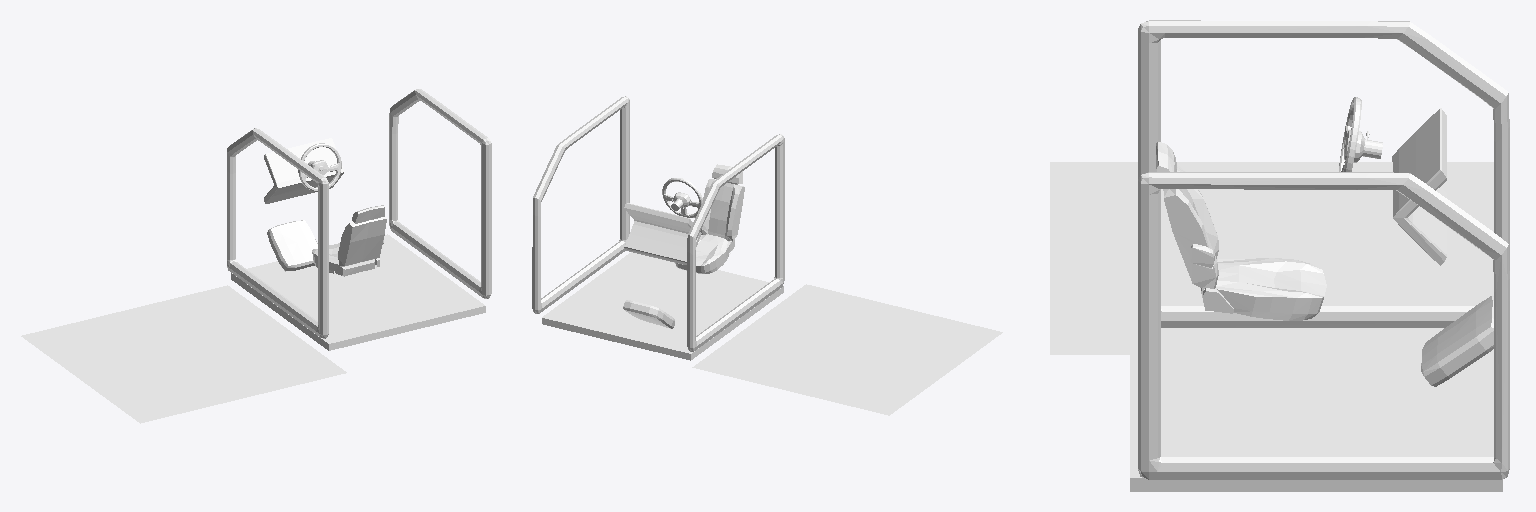
The robot description file, URDF, robot "car":
<robot name="car">
  <link name="base_link">
    <visual>
      <origin xyz="0 0 0" rpy="0 0 0" />
      <geometry>
        <mesh filename="package://hpp-rbprm-corba/meshes/car.stl"/>
      </geometry>
      <material name="white">
        <color rgba="1 1 1 1"/>
      </material>
    </visual>
    <collision>
      <origin xyz="0 0 0" rpy="0 0 0" />
      <geometry>
        <mesh filename="package://hpp-rbprm-corba/meshes/car.stl"/>
      </geometry>
    </collision>
  </link>
</robot>

--- What the picture shows (computed from the rendered views, not written in the file) ---
Views: 3 orthographic renders of the robot side by side, from view 1: azimuth 30°, elevation 25°; view 2: azimuth 150°, elevation 25°; view 3: azimuth 270°, elevation 25°.
Robot: car — 1 links, 0 joints (none); root link base_link; default pose: all joints at 0.
Visible links, largest first — view 1: base_link; view 2: base_link; view 3: base_link.
Link boxes in pixels (<box>): base_link: <box>21,89,491,423</box>; base_link: <box>532,96,1002,415</box>; base_link: <box>1050,20,1509,491</box>.
Size in the robot's own frame: 3.62 by 2.01 by 1.62 metres.
Meshes: 1 distinct files referenced, 1 mesh visuals loaded (1 binary STL).